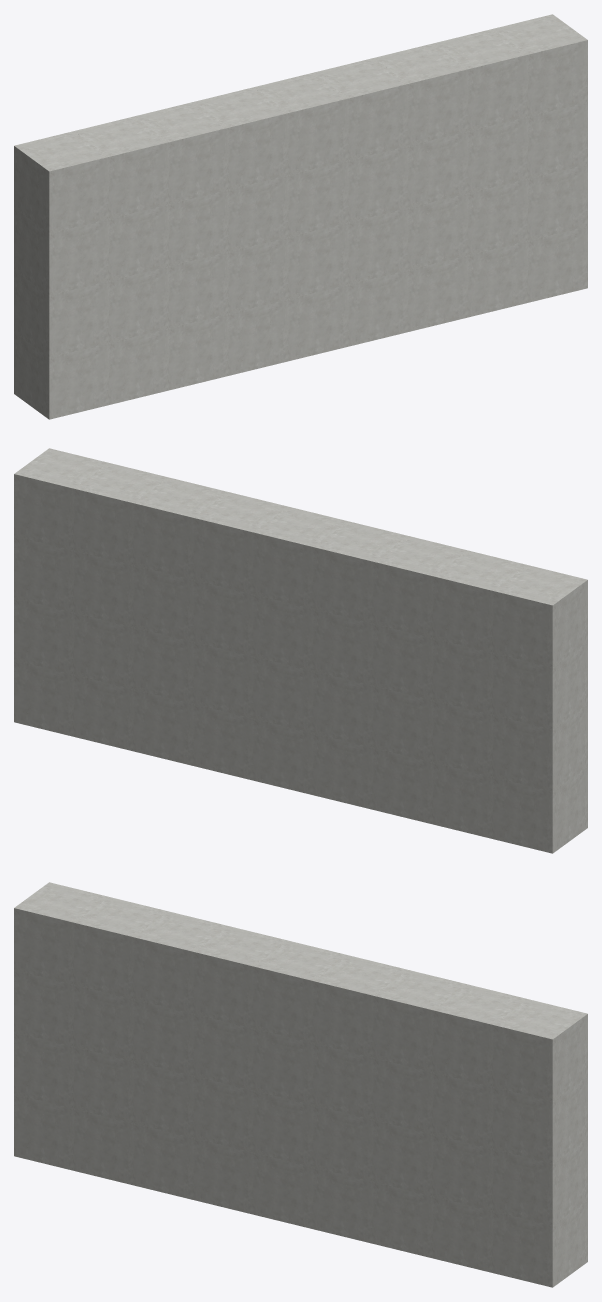
Rendered from TestRenderer.fbx.
The picture shows the model from 3 angles, top to bottom: view 1: azimuth 30°, elevation 25°; view 2: azimuth 150°, elevation 25°; view 3: azimuth 330°, elevation 25°; orthographic projection.
Visible parts, largest first — view 1: Cube; view 2: Cube; view 3: Cube.
Part boxes in pixels (x1,y1,x2,y2): Cube: (14,14,587,419); Cube: (14,448,587,853); Cube: (14,882,587,1287).
Bounding box in the file's own units: 883 × 389 × 100.
